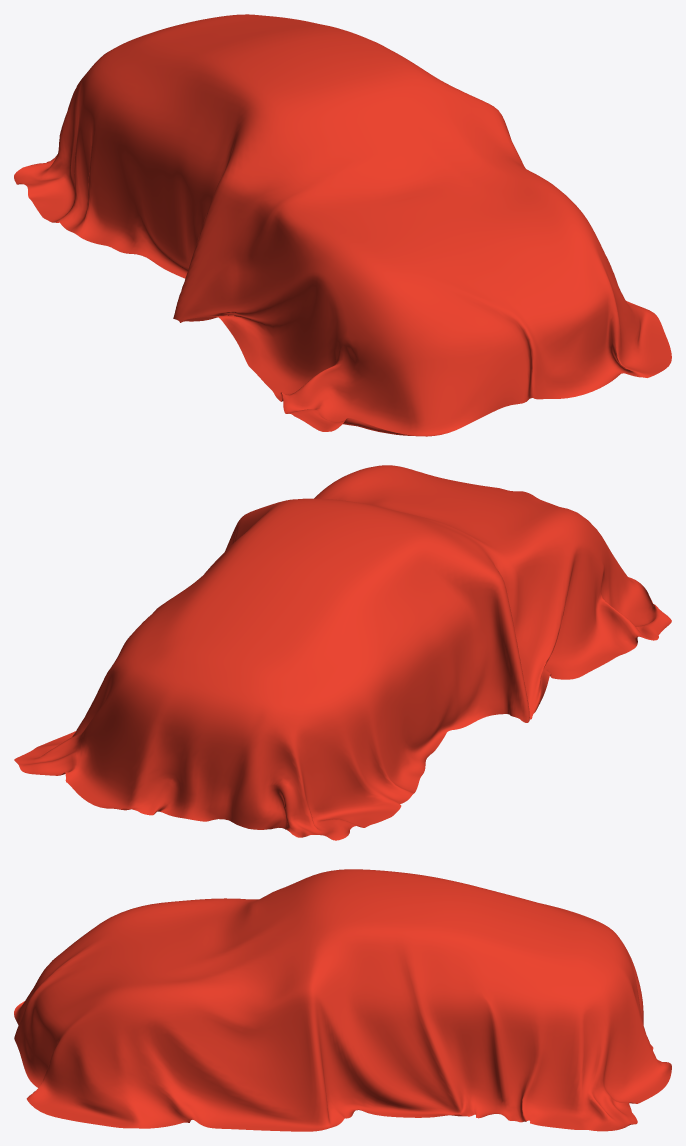
Rendered from TestCar.gltf.
The picture shows the model from 3 angles, top to bottom: view 1: azimuth 30°, elevation 25°; view 2: azimuth 150°, elevation 25°; view 3: azimuth 270°, elevation 25°; orthographic projection. The views are drawn at different scales.
Parts seen in each view (by area): view 1: cloth_drapery_automotive_mesh; view 2: cloth_drapery_automotive_mesh; view 3: cloth_drapery_automotive_mesh.
Boxes of the visible parts, x1,y1,x2,y2 form: cloth_drapery_automotive_mesh: (14,14,671,436); cloth_drapery_automotive_mesh: (14,465,671,840); cloth_drapery_automotive_mesh: (14,869,671,1131).
Size of the model in its own units: 3.03 by 1.44 by 5.39.
